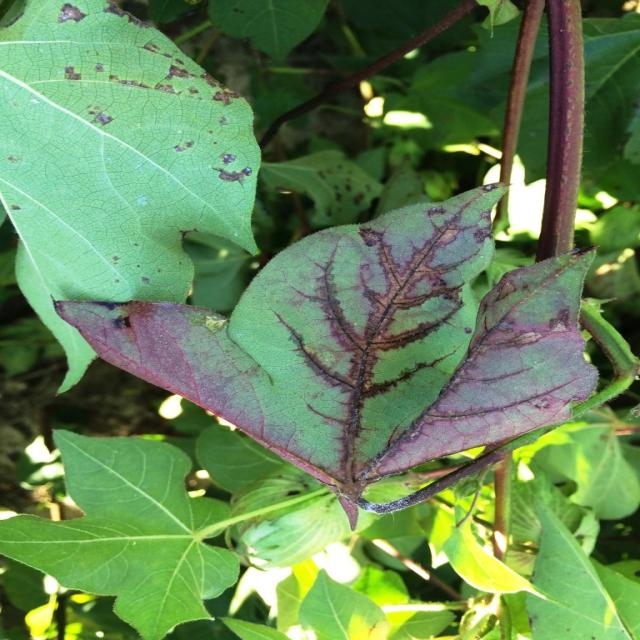Bacterial Blight: (256, 193, 467, 446)
